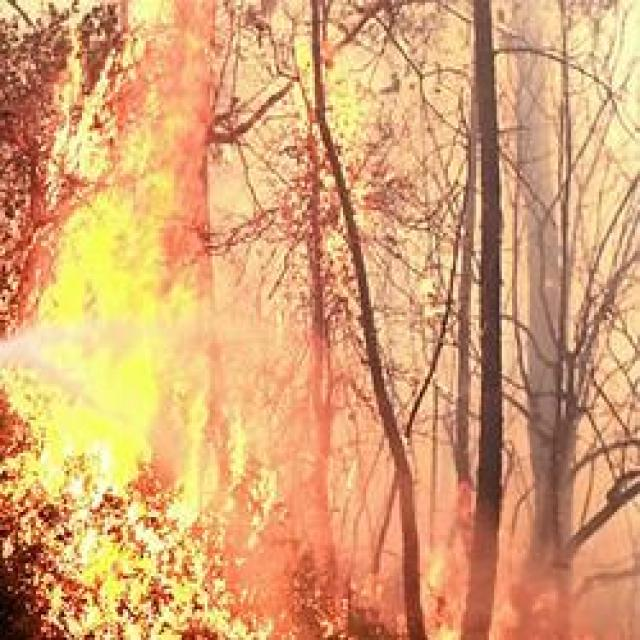fire: (10, 70, 278, 640), (288, 31, 367, 167), (415, 535, 481, 640)
